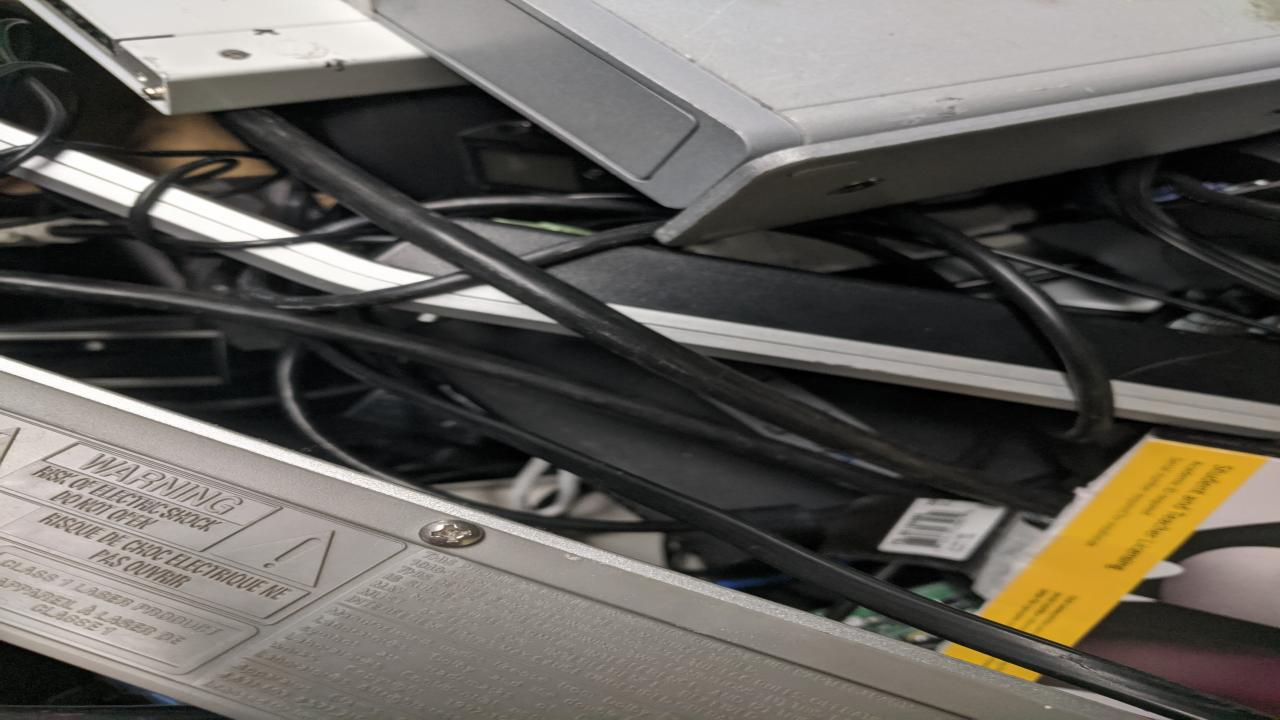CRS: (420, 518, 488, 547)
